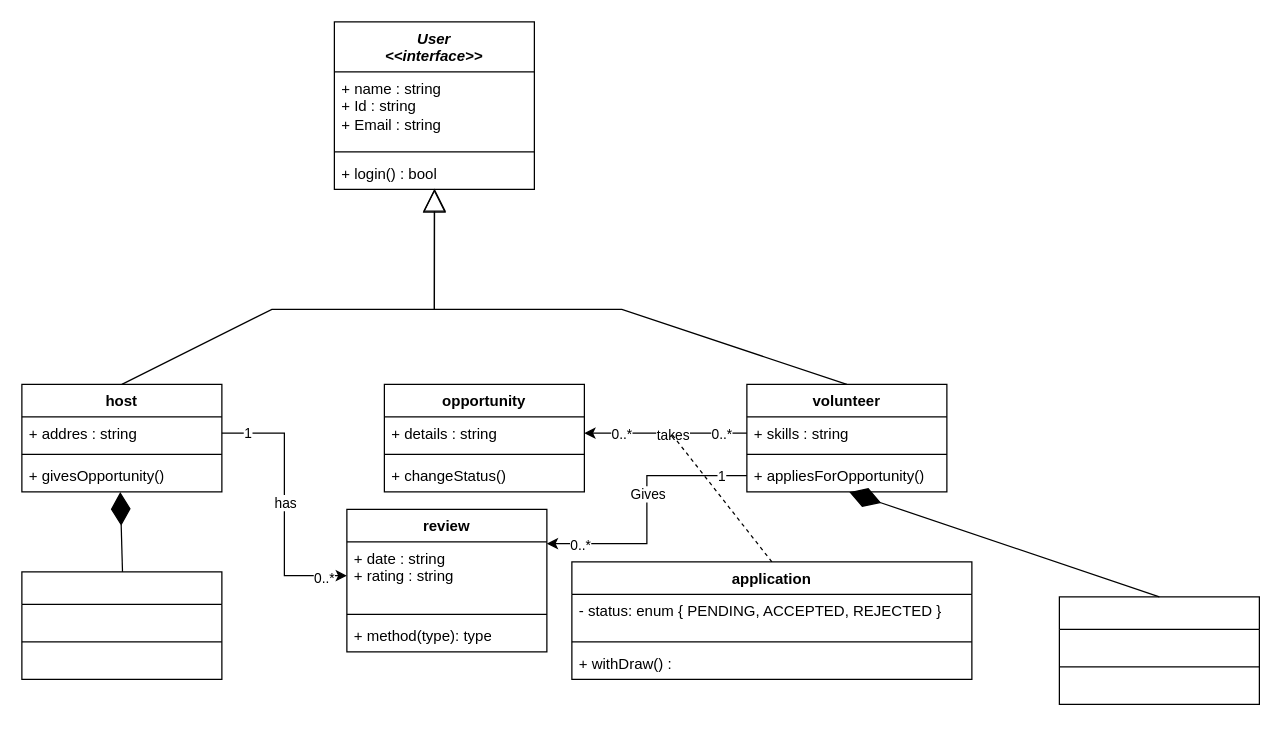
This 1281x730 diagram has some shape labels left out. The centre of each missing label's shape, as x and y in pixels:
"hostProfile" belongs at [121,625].
"volunteerProfile" belongs at [1158,650].
